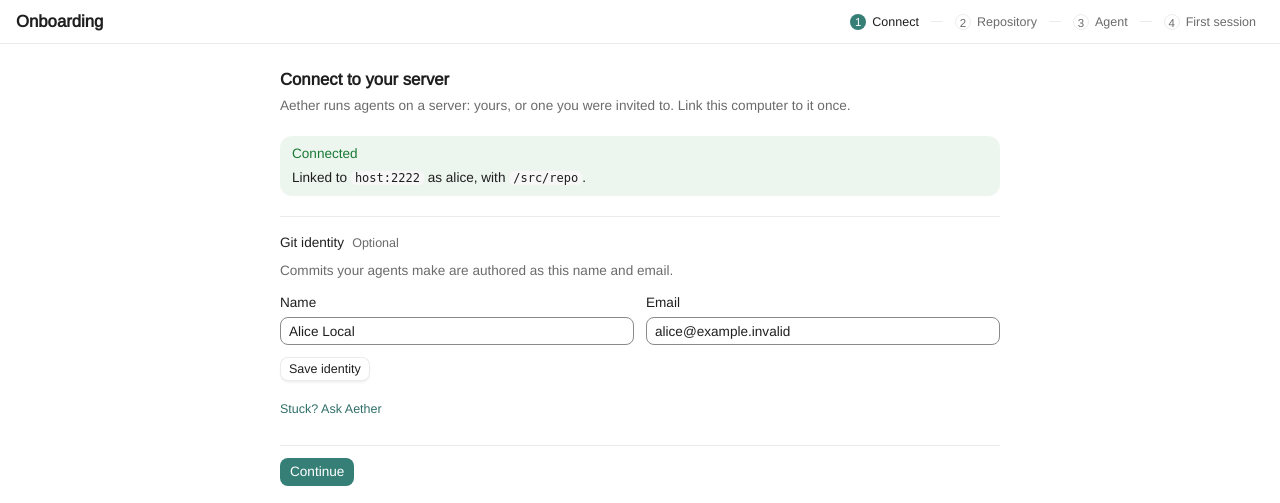
Test: onboarding wizard › prefills the git identity at the bottom of Connect from this machine and saves it
Expected: the 8th element named "Git identity" is shown, [280, 216, 1000, 381]
Expected: the 2nd field named "Email" holds "alice@example.invalid", [646, 317, 1000, 345]
Replace the text in the 1st field named "Name" with "Ada Lovelace" at (457, 331), box [280, 317, 634, 345]
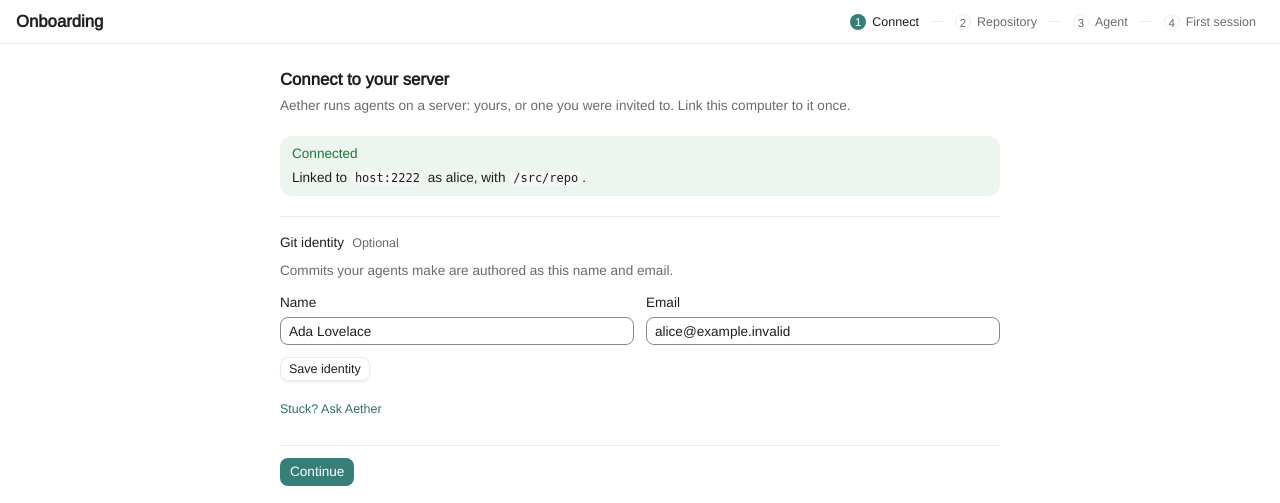
Click the 1st button named "Save identity".
click(325, 369)  # box [280, 357, 370, 381]
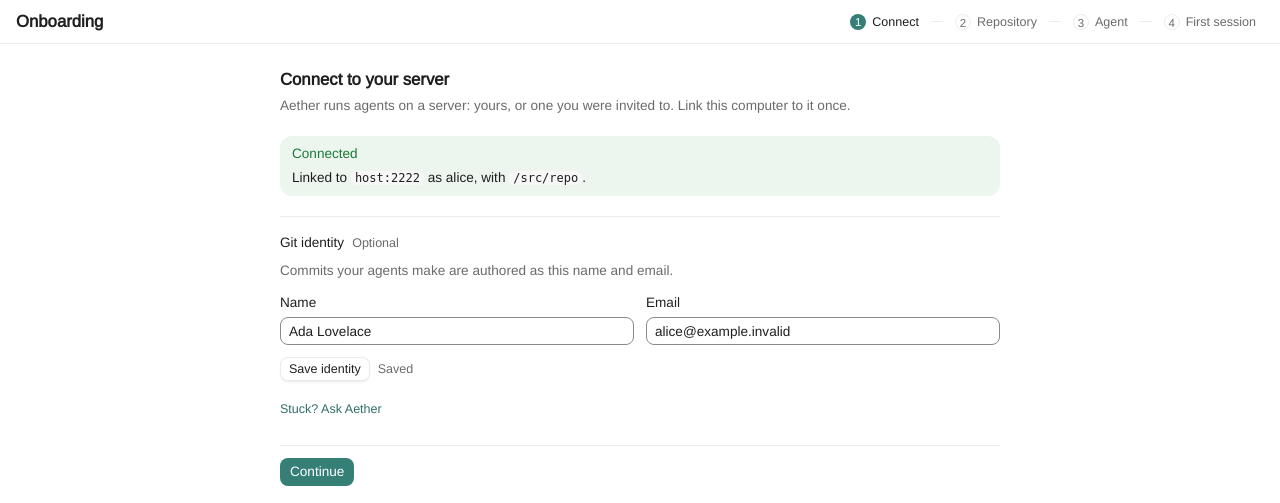
Expected: the text "Saved" is shown, [378, 361, 413, 377]
